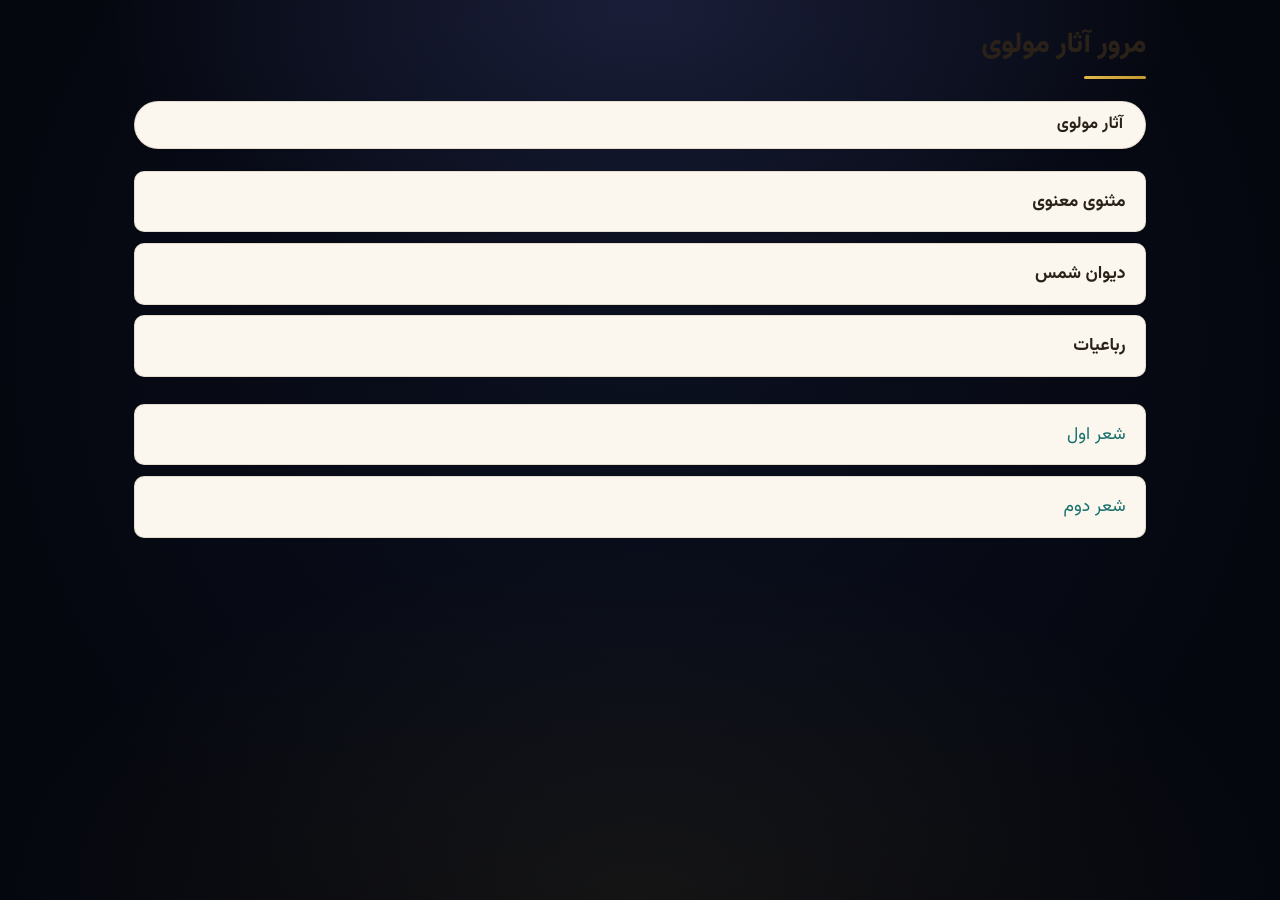
Scenario: BrowseComponent › هنگام خطا محتوای قبلی حفظ می‌شود (R1.6)
Click the button with class "browse__link--cat" showing "مثنوی معنوی": (1079, 201) [134,171,1146,232]
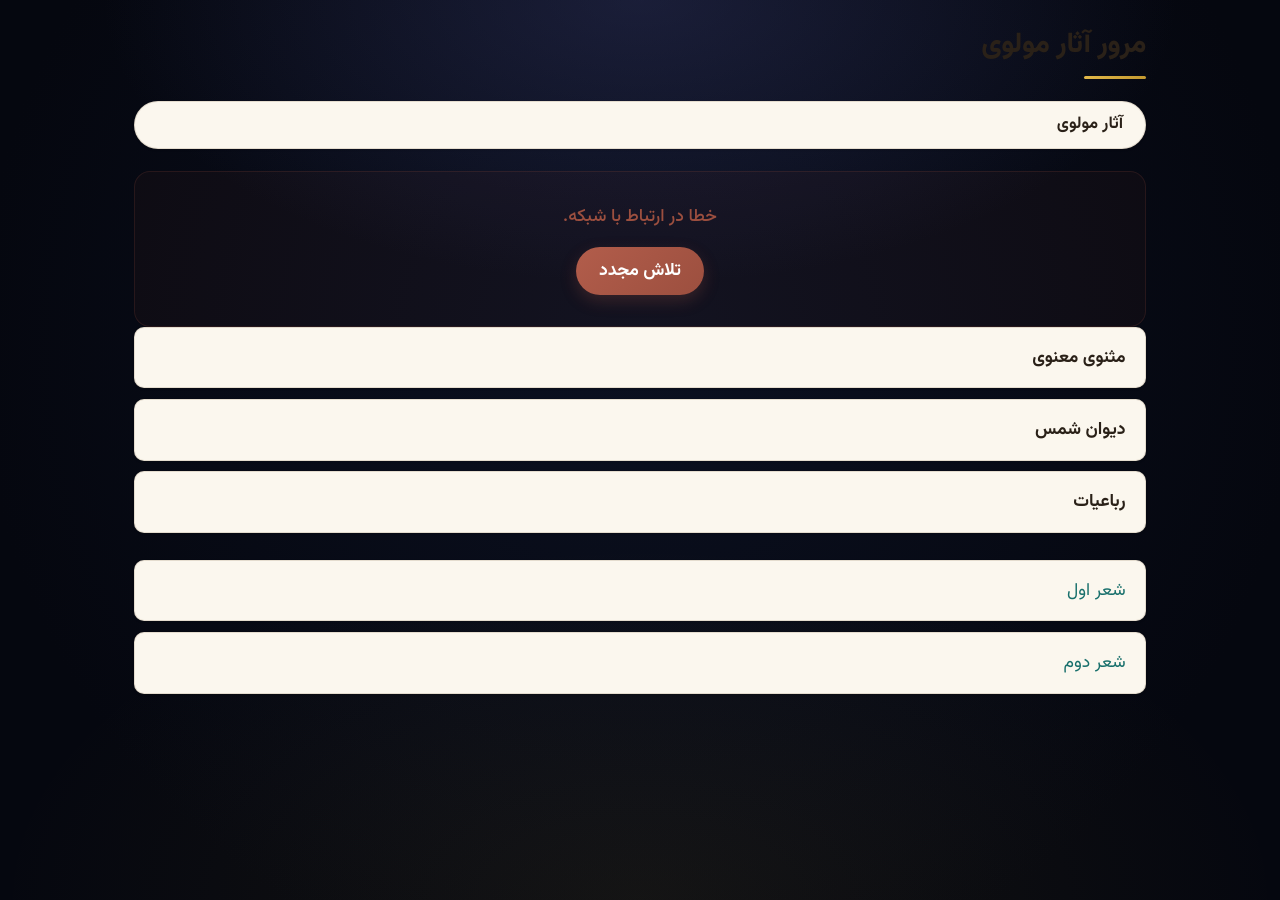
Now the text "خطا در ارتباط با شبکه." is shown, box [563,202,717,232]
